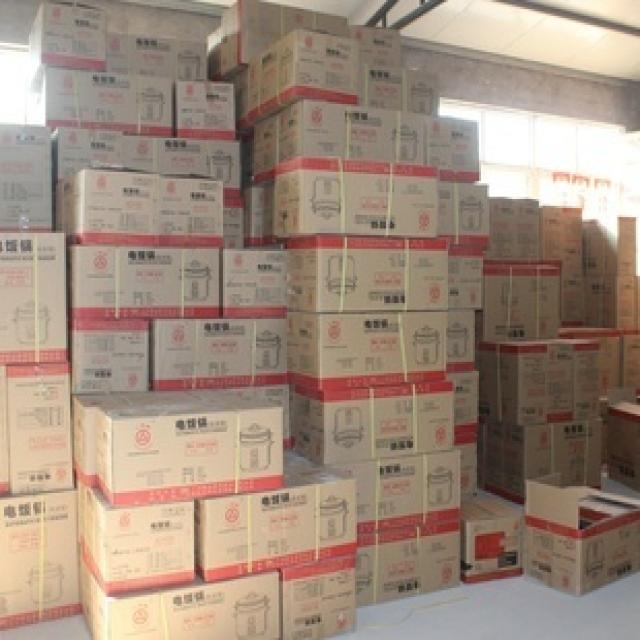box: (98, 399, 284, 507), (194, 464, 356, 583), (79, 550, 281, 638), (289, 378, 454, 465), (252, 100, 426, 181), (274, 156, 440, 238), (55, 169, 225, 247), (78, 482, 194, 596), (527, 480, 638, 596), (71, 391, 201, 490), (286, 311, 448, 390), (286, 235, 448, 312), (0, 488, 81, 630), (322, 450, 460, 533), (478, 416, 602, 506), (246, 28, 359, 126), (67, 246, 220, 318), (475, 337, 599, 424), (219, 1, 348, 83), (24, 68, 173, 137), (152, 319, 289, 391), (356, 520, 460, 606), (0, 232, 67, 365), (7, 363, 74, 495), (107, 6, 207, 84), (122, 137, 240, 198), (476, 262, 560, 342), (28, 2, 107, 86), (196, 383, 291, 450), (281, 555, 357, 638), (460, 491, 525, 584), (71, 319, 150, 394), (582, 218, 635, 327), (0, 124, 52, 230), (540, 206, 582, 326), (220, 249, 287, 319), (52, 126, 122, 187), (561, 328, 622, 398), (359, 64, 441, 116), (484, 197, 540, 262), (426, 115, 480, 182), (173, 81, 235, 139), (438, 182, 489, 249), (601, 398, 638, 490), (241, 186, 287, 249), (349, 24, 402, 68), (446, 370, 479, 439), (448, 248, 484, 309), (447, 309, 476, 372), (454, 434, 478, 494), (621, 327, 638, 403), (224, 198, 241, 248)
